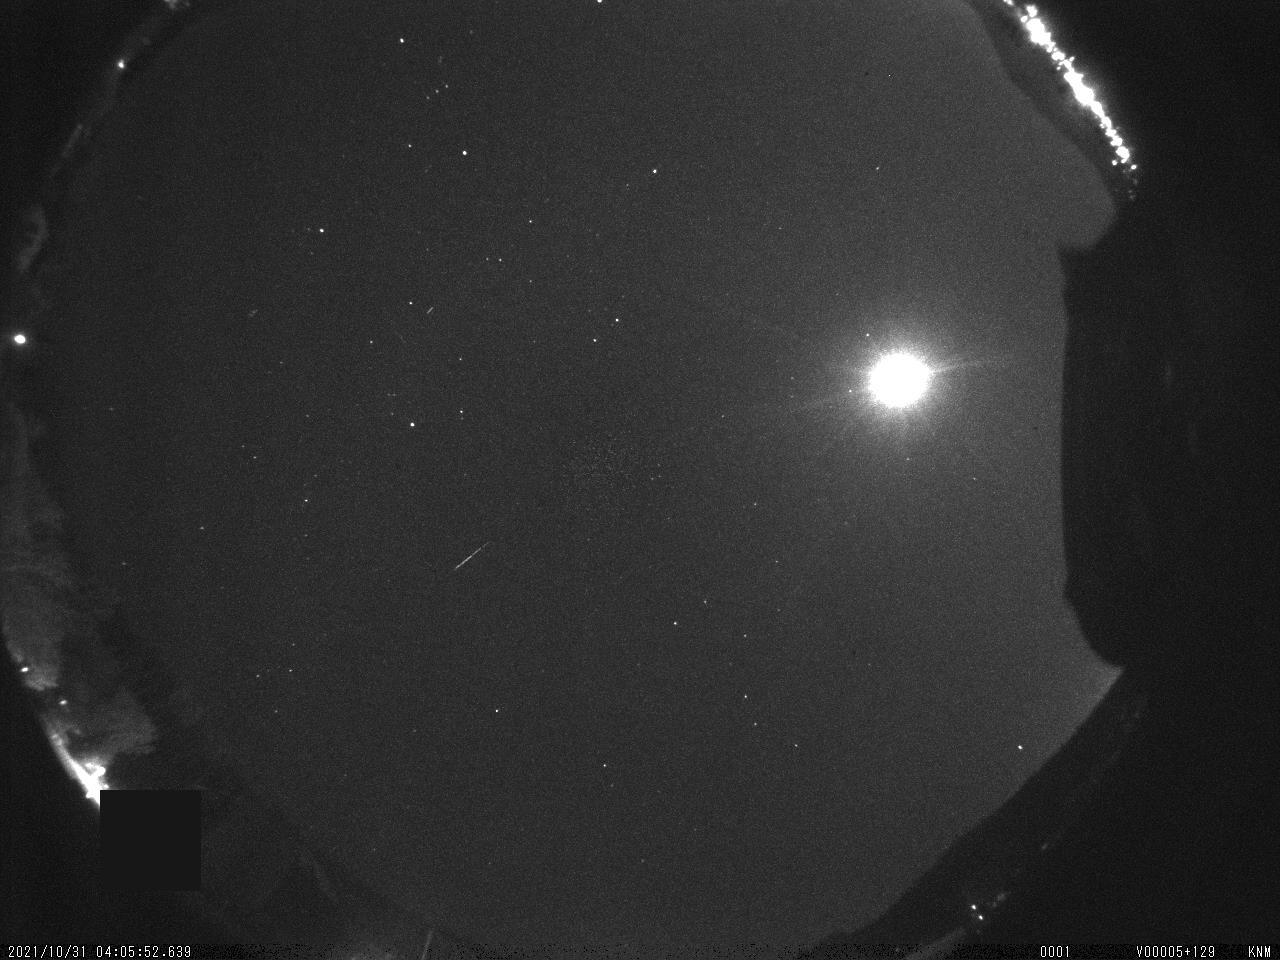meteor: (436, 532, 499, 579)
